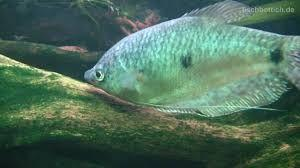Gourami: (83, 0, 300, 118)
